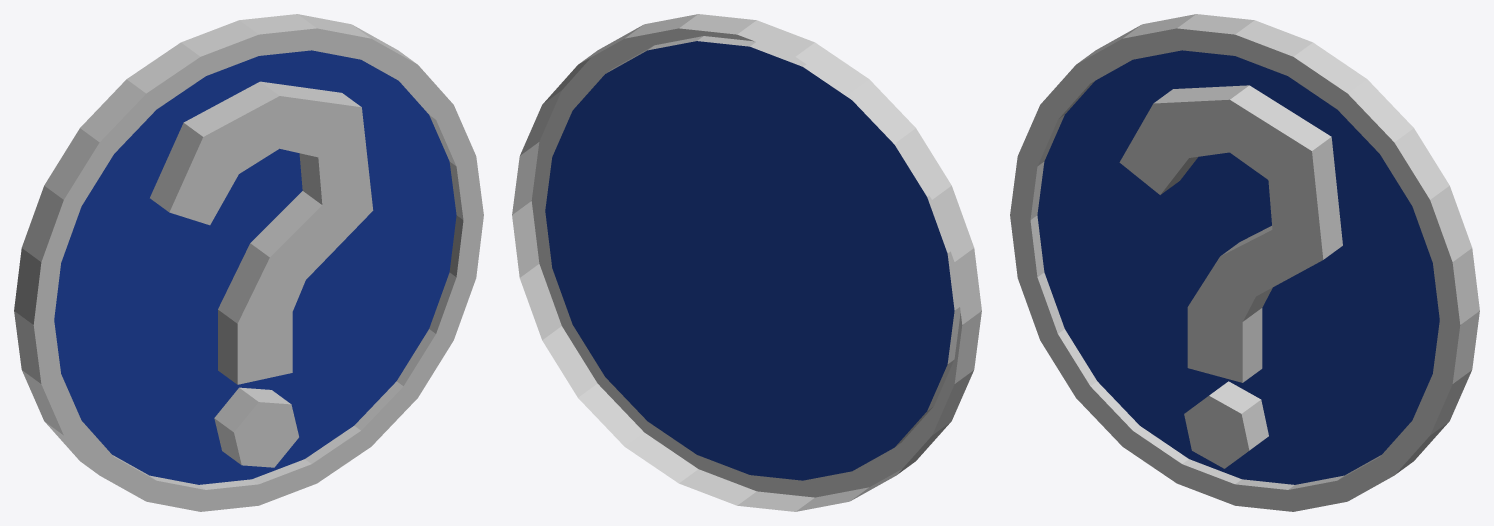
File: qmark.fbx
3 views of the same model, side by side, from view 1: azimuth 30°, elevation 25°; view 2: azimuth 150°, elevation 25°; view 3: azimuth 330°, elevation 25° (orthographic).
Parts seen in each view (by area): view 1: Plane; view 2: Plane; view 3: Plane.
Part boxes in pixels (left/top/right/bottom): Plane: left=14, top=14, right=483, bottom=511; Plane: left=512, top=14, right=981, bottom=511; Plane: left=1010, top=14, right=1479, bottom=511.
Size of the model in its own units: 1320 by 1320 by 167.
